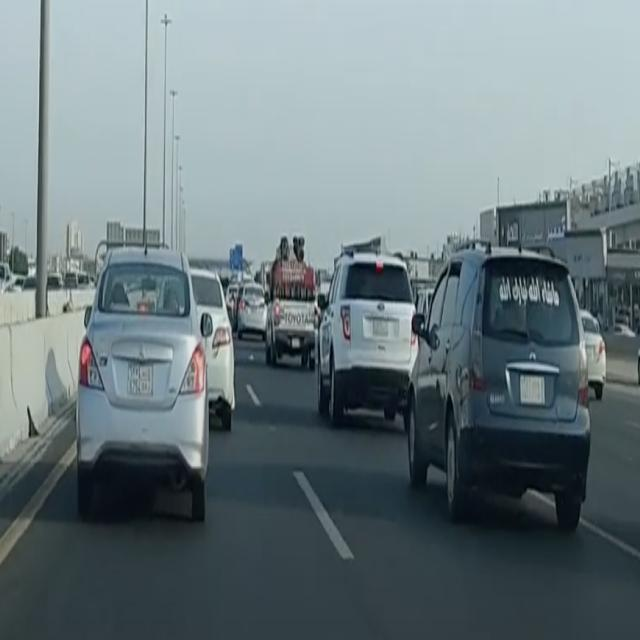license_plate: (124, 361, 152, 404), (517, 374, 547, 407), (373, 319, 389, 339), (291, 338, 301, 350), (586, 346, 594, 359), (251, 308, 257, 316)
